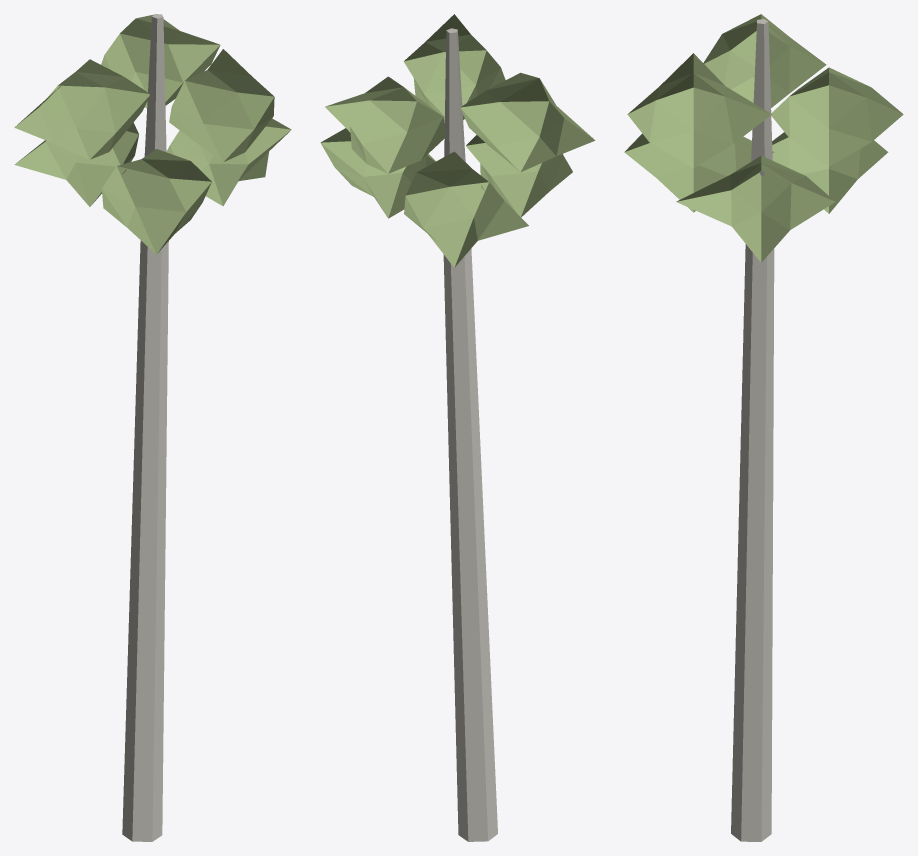
File: birch_v02.glb
The picture shows the model from 3 angles, left to right: view 1: azimuth 30°, elevation 25°; view 2: azimuth 150°, elevation 25°; view 3: azimuth 270°, elevation 25°; orthographic projection. The views are drawn at different scales.
Visible parts, largest first — view 1: lod0; view 2: lod0; view 3: lod0.
Part boxes in pixels (left/top/right/bottom): lod0: left=14, top=14, right=291, bottom=841; lod0: left=320, top=14, right=595, bottom=841; lod0: left=624, top=14, right=903, bottom=841.
Size of what is drawn, in the model's own units: 2.08 by 5.8 by 1.79.
